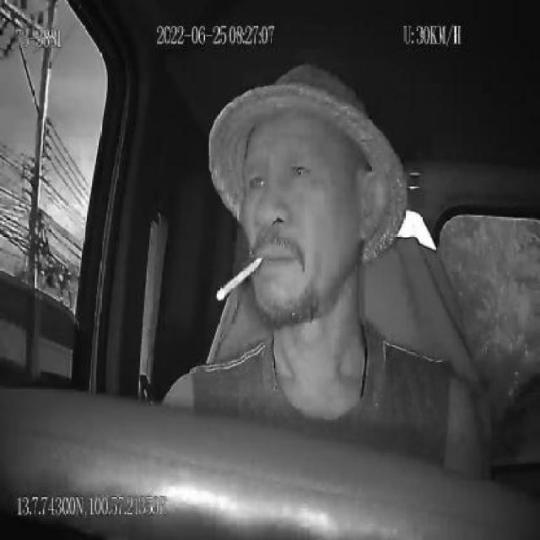smoking: (216, 255, 263, 304)
